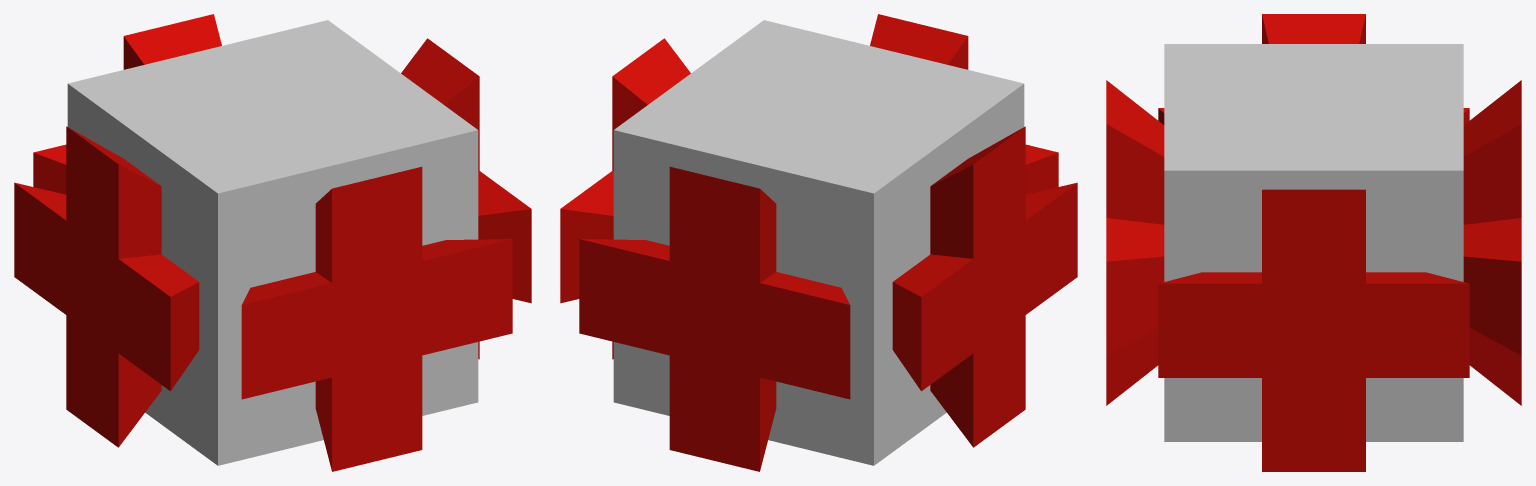
The model's file is MedKit.fbx.
3 renders of one model, left to right at view 1: azimuth 30°, elevation 25°; view 2: azimuth 150°, elevation 25°; view 3: azimuth 270°, elevation 25°, orthographic.
Parts seen in each view (by area): view 1: Cube; view 2: Cube; view 3: Cube.
Part boxes in pixels (x1,y1,x2,y2): Cube: (14, 14, 531, 471); Cube: (560, 14, 1077, 471); Cube: (1106, 14, 1521, 471).
Bounding box in the file's own units: 277 × 208 × 277.
